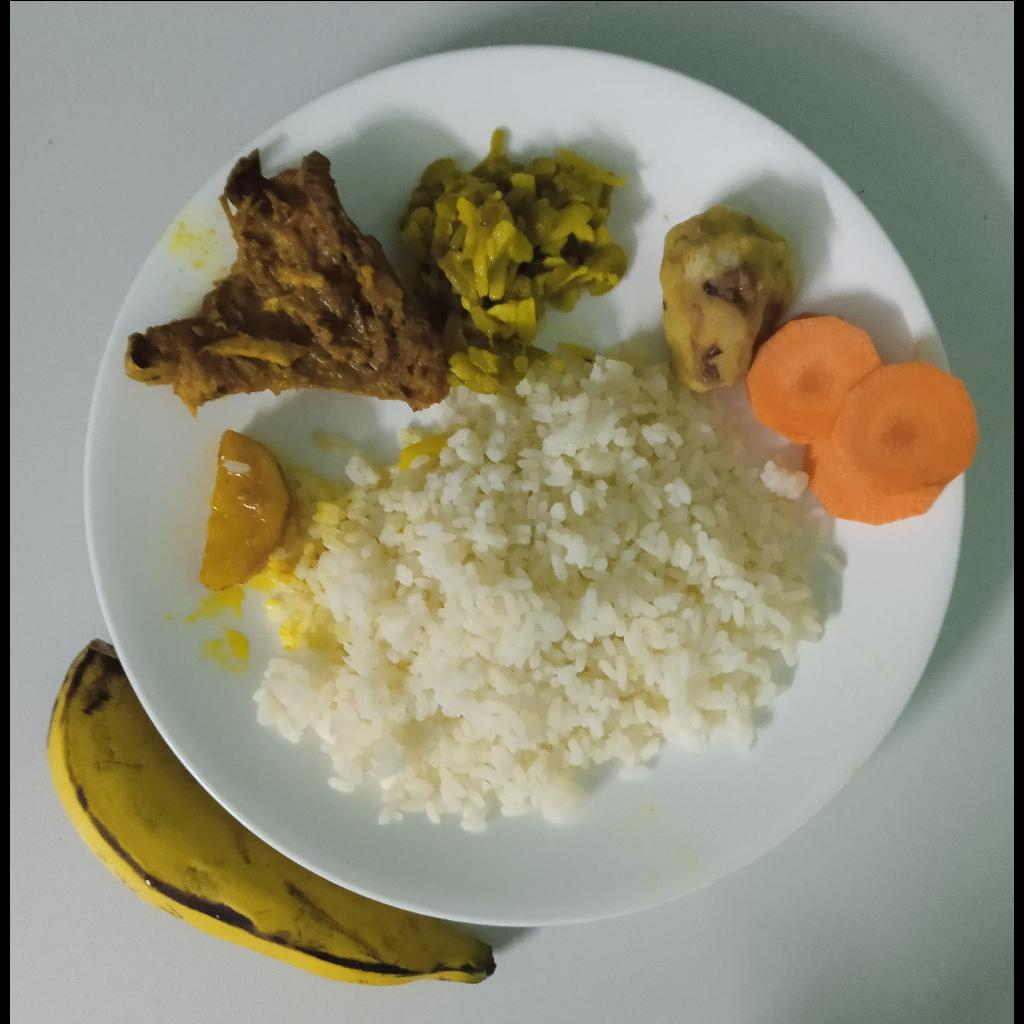banana: (47, 638, 497, 986)
carrot: (748, 311, 979, 526)
chicken: (125, 145, 452, 422)
dundol: (400, 127, 631, 397)
potato: (201, 430, 293, 589)
potato-mashed: (660, 204, 800, 395)
rice: (252, 340, 834, 828)
